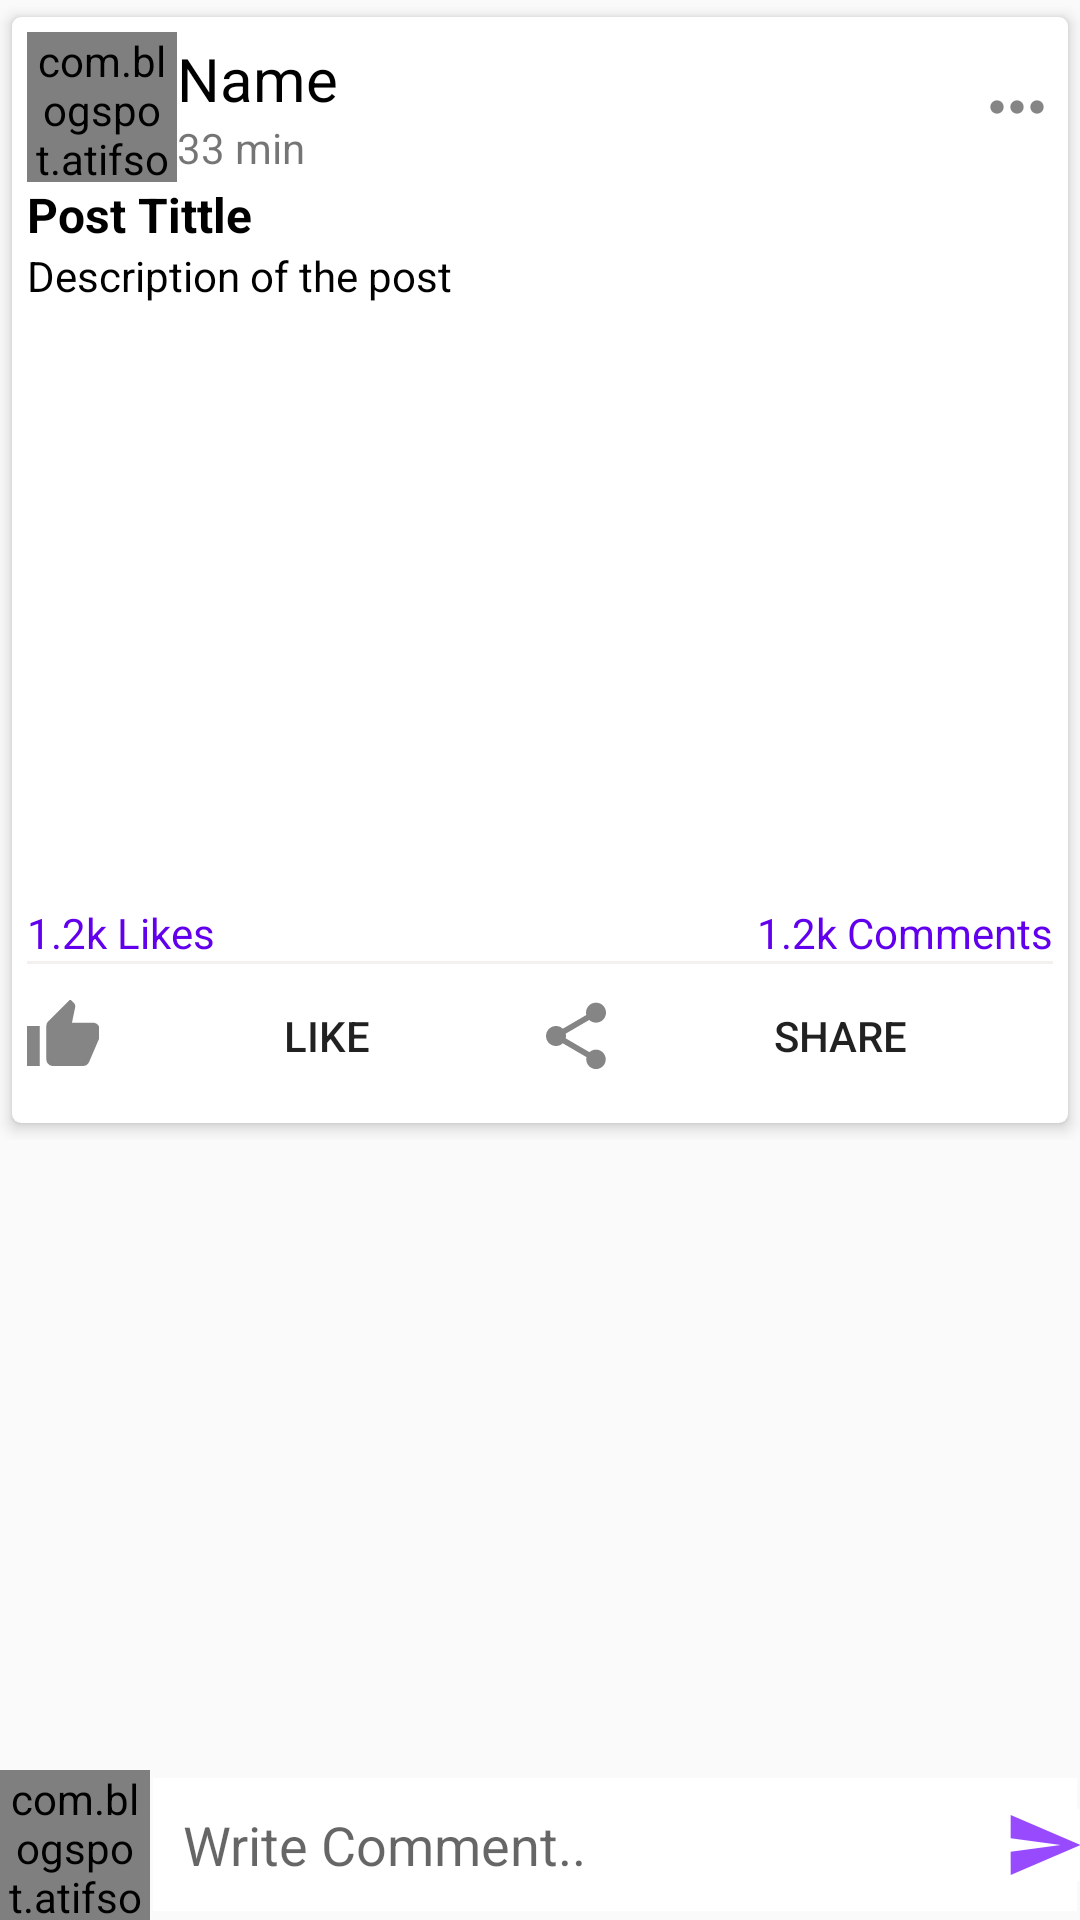

Screen size 1080px x 1920px. Icon name, then its box in pixels as [left=x1, top=y1, right=x2, bottom=y2]:
more: [left=990, top=100, right=1044, bottom=114]
send violet: [left=1010, top=1815, right=1080, bottom=1875]
